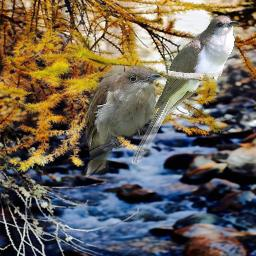Cuckoo: (130, 15, 240, 165), (82, 64, 162, 178)
